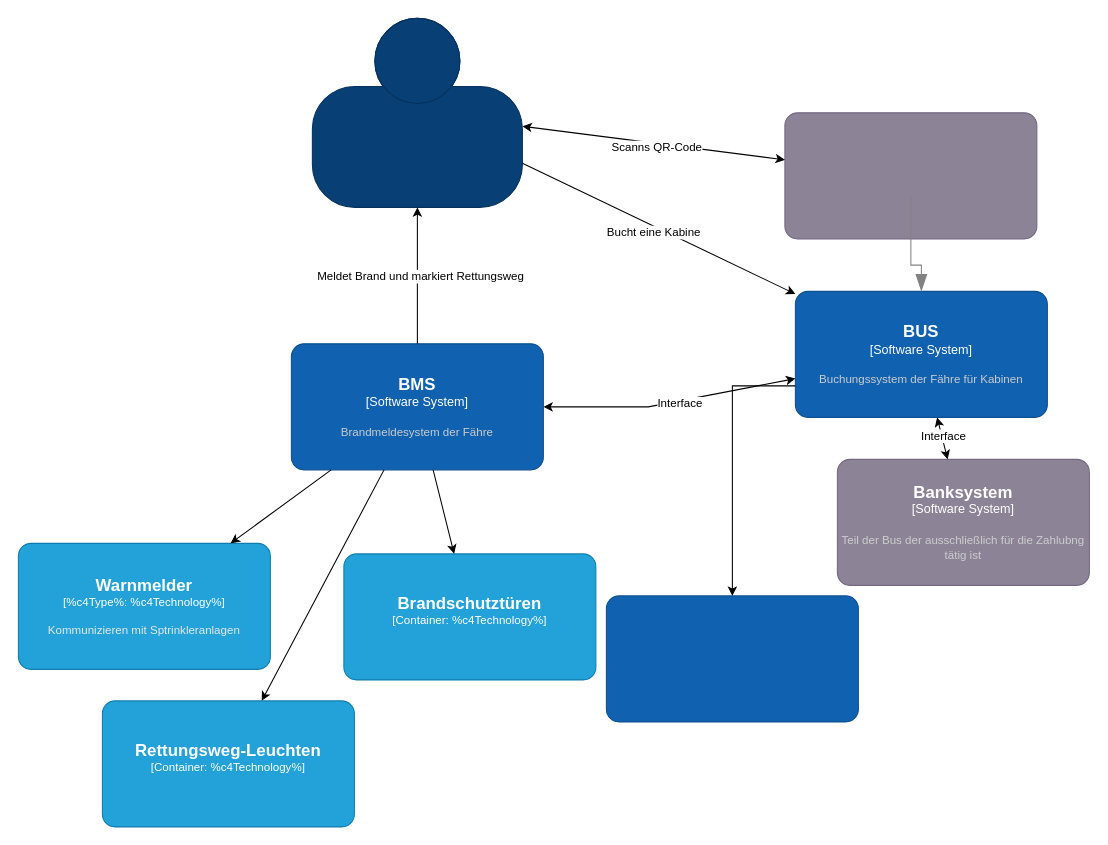
Some shapes in this 1108 by 845 pixel diagram are drawn without their labels. Here are the shapes that lost their labels. From the top down, the centre of each, then its label:
[416,112]: Steve Jobless [Person] Kunde der eine Kabine buchen möchte
[910,175]: CheckIn-CheckOut App [Software System] Managed die Anmeldung für die Kabinen
[731,658]: DBMS [Software System] Datenbank
